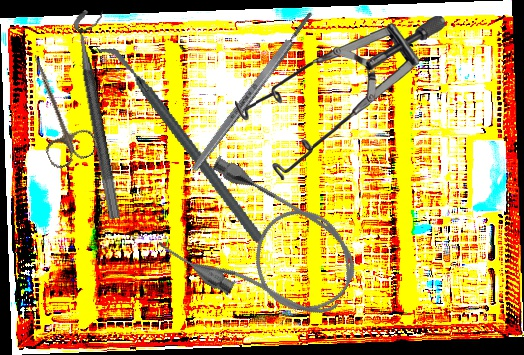Cannula: (152, 150, 374, 345)
Chopper: (95, 17, 266, 270)
Fixation Ring: (71, 7, 139, 220)
Iris Scissors: (9, 46, 101, 172)
Scalpel Handle: (188, 8, 317, 175)
Speculum: (233, 16, 450, 181)
